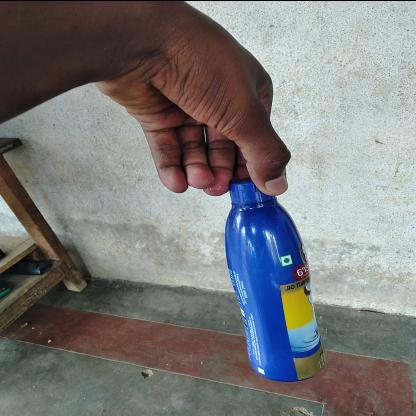bottle: (234, 68, 416, 147)
